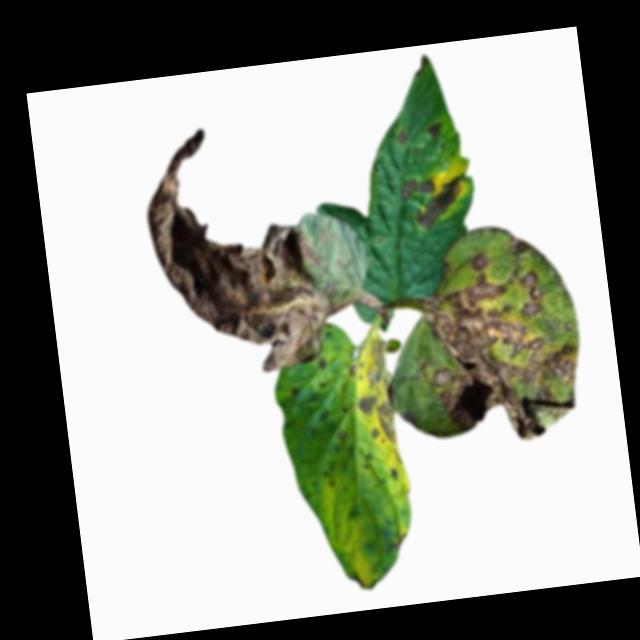Early_blight: (134, 112, 342, 385), (409, 239, 592, 456), (352, 328, 404, 454), (410, 172, 468, 230), (395, 172, 435, 201), (348, 566, 384, 592), (392, 124, 410, 146), (426, 120, 443, 139)
